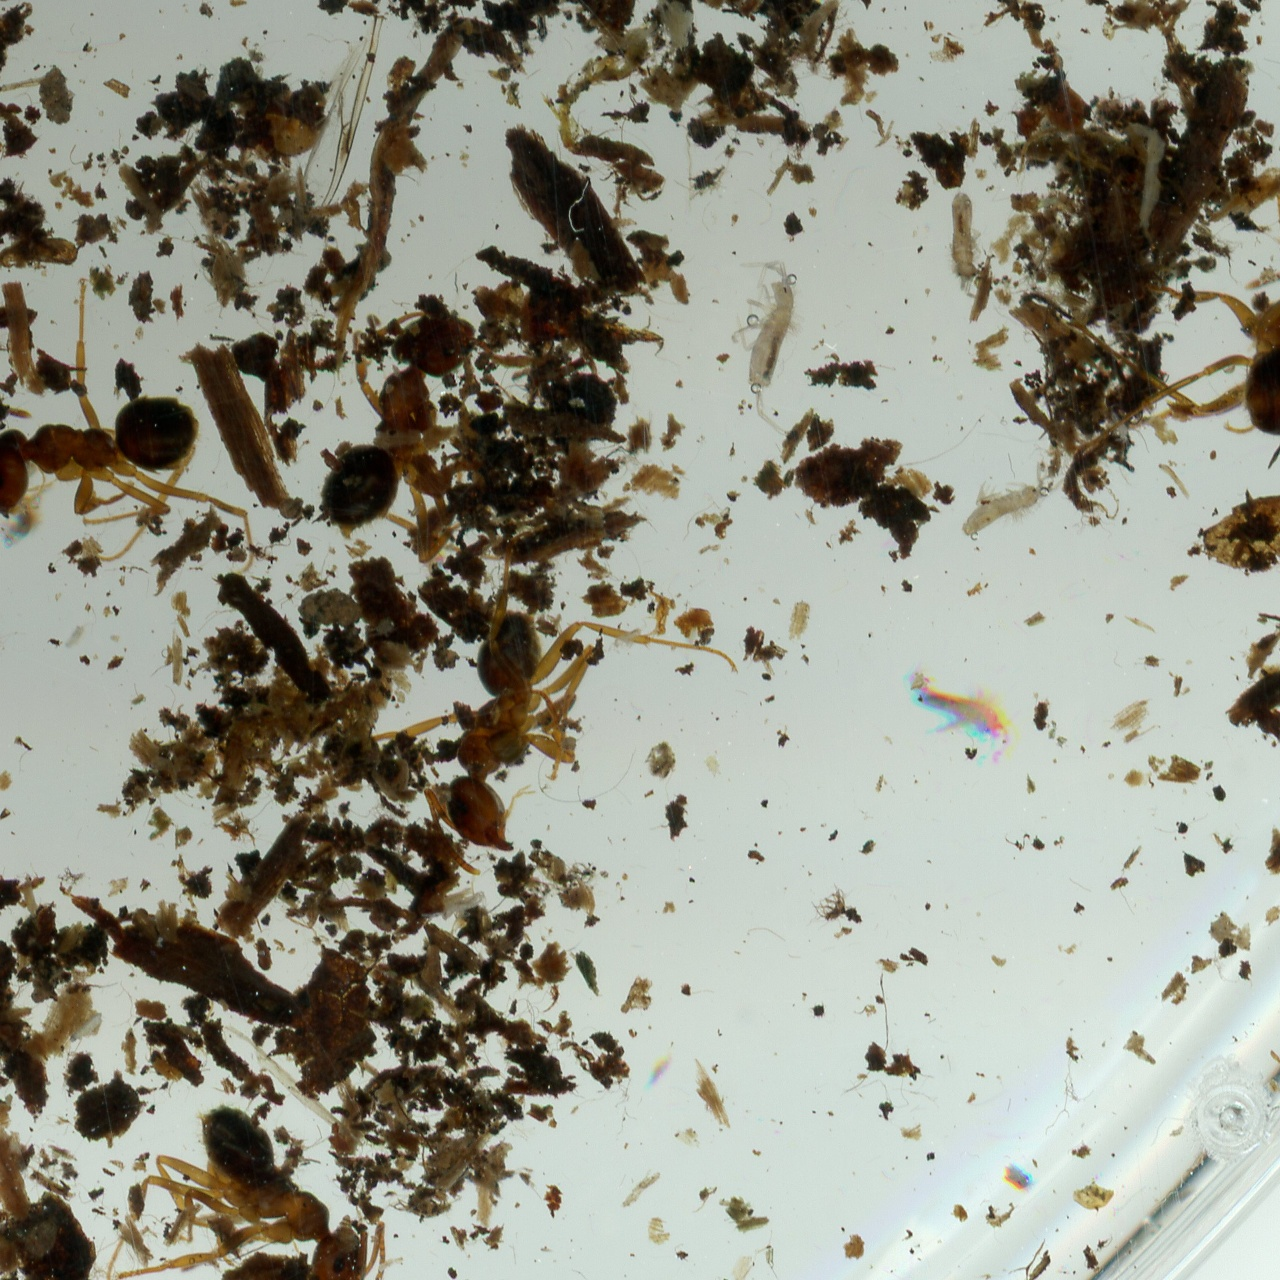arthropod: (345, 493, 764, 925), (271, 266, 566, 590), (0, 253, 256, 599), (61, 1071, 420, 1280), (708, 250, 822, 441), (896, 651, 1036, 776), (1178, 278, 1280, 442), (944, 448, 1071, 542), (416, 880, 498, 947), (787, 0, 843, 76), (948, 189, 980, 298), (59, 1006, 111, 1055), (1109, 410, 1131, 447)
